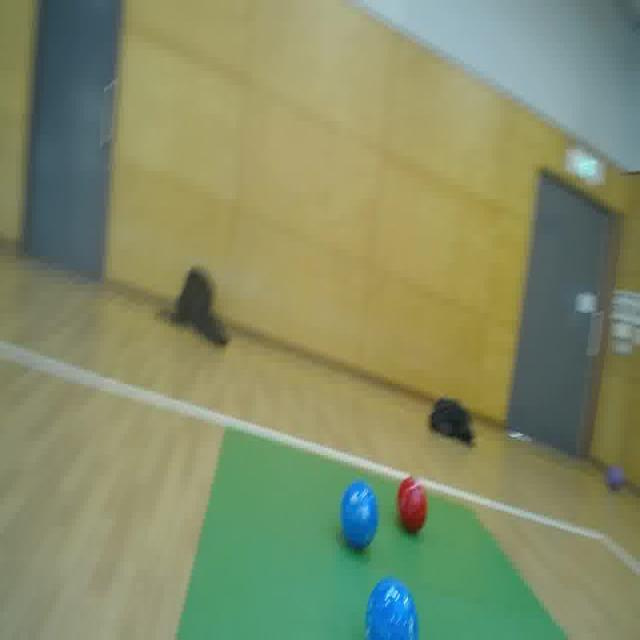blue_ball: (360, 573, 415, 640), (336, 478, 378, 550)
purple_ball: (604, 461, 624, 496)
red_ball: (396, 472, 428, 532)
